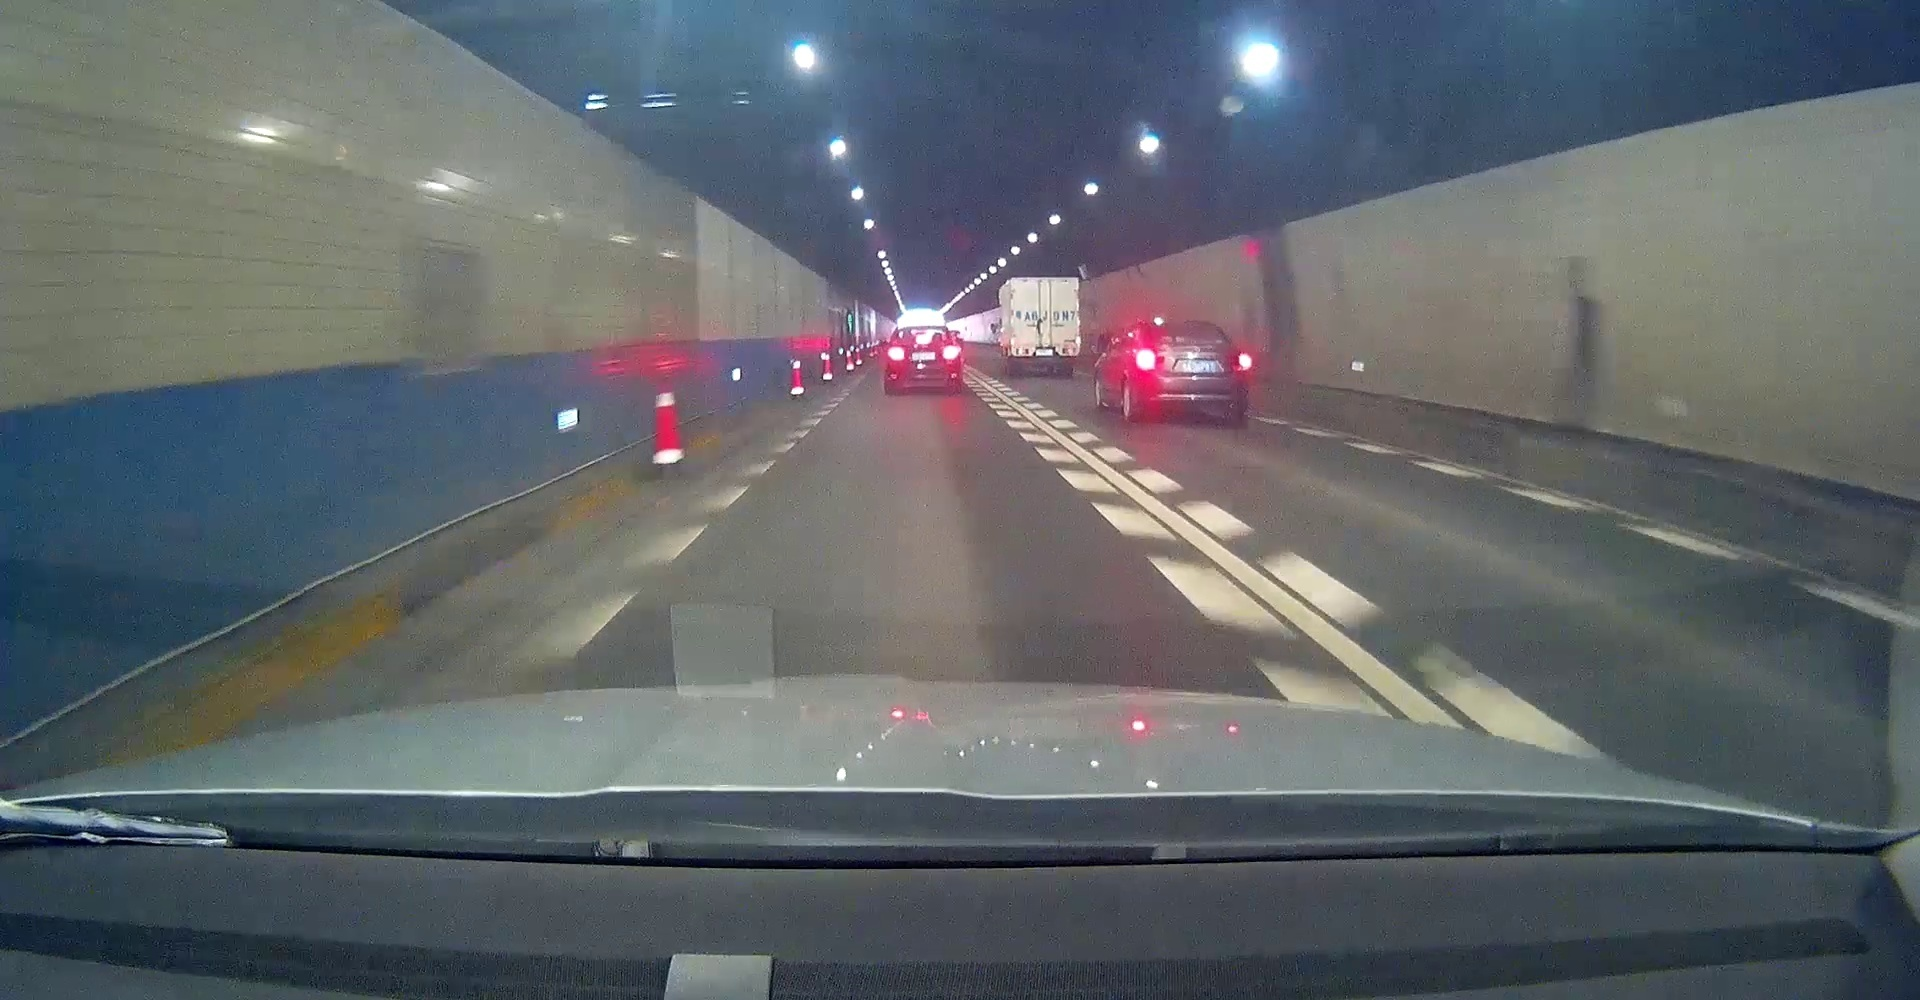L_light: (1137, 350, 1164, 369), (888, 346, 905, 360), (1015, 348, 1030, 355)
R_light: (1228, 352, 1250, 371), (943, 346, 959, 360), (1062, 346, 1076, 355)
T_light: (916, 335, 931, 344), (1176, 338, 1194, 344), (1037, 280, 1051, 286)
day-brake: (884, 325, 963, 393)
day-no: (1135, 322, 1251, 423), (1011, 277, 1081, 376)
